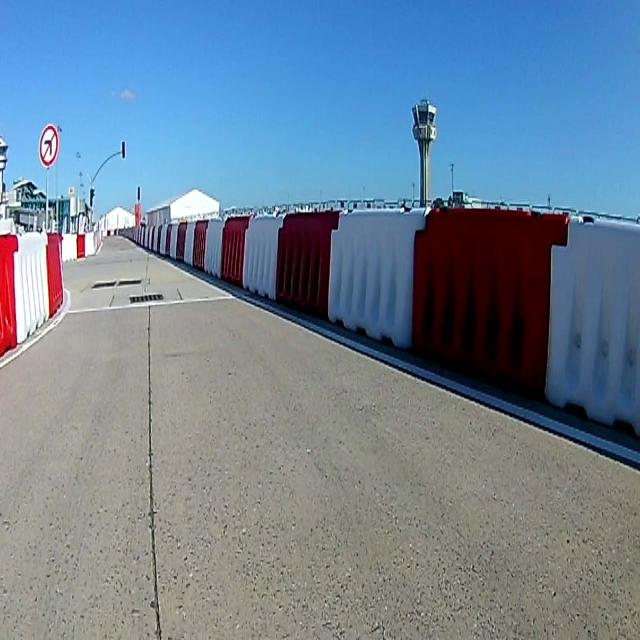soladonulmez: (39, 127, 59, 169)
